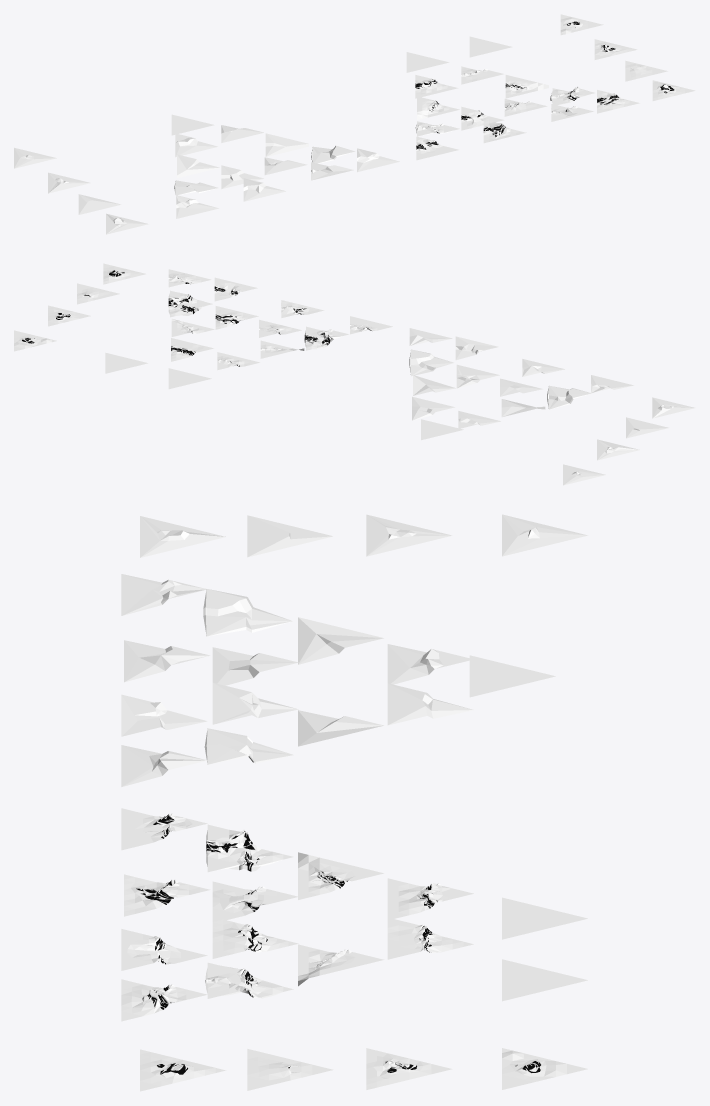
Rendered from arctic_biome_tiles.fbx.
3 renders of one model, top to bottom at view 1: azimuth 30°, elevation 25°; view 2: azimuth 150°, elevation 25°; view 3: azimuth 270°, elevation 25°, orthographic. The views are drawn at different scales.
Visible parts, largest first — view 1: arctic_biome_cliff_1_end_left_a, arctic_biome_cliff_1_end_left_a_low, arctic_biome_cliff_1_convex_c_low, arctic_biome_cliff_1_convex_c, arctic_biome_cliff_1_convex_path_a_low, arctic_biome_cliff_1_convex_a_low, arctic_biome_cliff_1_convex_path_a, arctic_biome_cliff_1_convex_a, arctic_biome_cliff_1_convex_b_low, arctic_biome_cliff_1_convex_b, arctic_biome_cliff_1_end_right_a_low, arctic_biome_cliff_1_end_right_a (+23 smaller); view 2: arctic_biome_cliff_1_multi_left, arctic_biome_cliff_1_multi_left_low, arctic_biome_cliff_1_multi_right, arctic_biome_cliff_1_multi_right_low, arctic_biome_cliff_1_concave_b, arctic_biome_cliff_1_concave_path_a, arctic_biome_cliff_1_concave_path_a_low, arctic_biome_cliff_1_concave_b_low, arctic_biome_cliff_1_concave_a_low, arctic_biome_cliff_1_concave_a, arctic_biome_flat_snow_a, arctic_biome_flat_rock_d_low (+23 smaller); view 3: arctic_biome_cliff_1_multi_right_low, arctic_biome_cliff_1_multi_right, arctic_biome_cliff_1_end_right_a, arctic_biome_cliff_1_end_right_a_low, arctic_biome_cliff_1_convex_a, arctic_biome_cliff_1_concave_a, arctic_biome_cliff_1_concave_path_a_low, arctic_biome_cliff_1_concave_a_low, arctic_biome_cliff_1_convex_a_low, arctic_biome_cliff_1_concave_b, arctic_biome_cliff_1_convex_b, arctic_biome_cliff_1_concave_b_low (+23 smaller).
Part boxes in pixels (bbox=[...]): arctic_biome_cliff_1_end_left_a: bbox=[505, 75, 548, 98]; arctic_biome_cliff_1_end_left_a_low: bbox=[265, 133, 308, 156]; arctic_biome_cliff_1_convex_c_low: bbox=[243, 178, 285, 201]; arctic_biome_cliff_1_convex_c: bbox=[483, 119, 526, 143]; arctic_biome_cliff_1_convex_path_a_low: bbox=[176, 195, 218, 218]; arctic_biome_cliff_1_convex_a_low: bbox=[175, 133, 217, 157]; arctic_biome_cliff_1_convex_path_a: bbox=[416, 136, 458, 160]; arctic_biome_cliff_1_convex_a: bbox=[415, 75, 458, 98]; arctic_biome_cliff_1_convex_b_low: bbox=[357, 148, 399, 172]; arctic_biome_cliff_1_convex_b: bbox=[597, 90, 639, 113]; arctic_biome_cliff_1_end_right_a_low: bbox=[177, 154, 219, 178]; arctic_biome_cliff_1_end_right_a: bbox=[417, 96, 459, 119]; arctic_biome_cliff_1_multi_left: bbox=[168, 290, 212, 317]; arctic_biome_cliff_1_multi_left_low: bbox=[409, 349, 453, 376]; arctic_biome_cliff_1_multi_right: bbox=[304, 326, 348, 350]; arctic_biome_cliff_1_multi_right_low: bbox=[547, 385, 591, 409]; arctic_biome_cliff_1_concave_b: bbox=[215, 306, 258, 329]; arctic_biome_cliff_1_concave_path_a: bbox=[214, 277, 257, 301]; arctic_biome_cliff_1_concave_path_a_low: bbox=[455, 336, 498, 360]; arctic_biome_cliff_1_concave_b_low: bbox=[456, 364, 499, 388]; arctic_biome_cliff_1_concave_a_low: bbox=[412, 396, 454, 420]; arctic_biome_cliff_1_concave_a: bbox=[171, 338, 213, 361]; arctic_biome_flat_snow_a: bbox=[168, 368, 211, 389]; arctic_biome_flat_rock_d_low: bbox=[652, 397, 694, 418]; arctic_biome_cliff_1_multi_right_low: bbox=[203, 589, 292, 636]; arctic_biome_cliff_1_multi_right: bbox=[206, 824, 293, 872]; arctic_biome_cliff_1_end_right_a: bbox=[298, 852, 383, 899]; arctic_biome_cliff_1_end_right_a_low: bbox=[298, 617, 383, 664]; arctic_biome_cliff_1_convex_a: bbox=[387, 878, 473, 918]; arctic_biome_cliff_1_concave_a: bbox=[387, 917, 473, 959]; arctic_biome_cliff_1_concave_path_a_low: bbox=[121, 694, 207, 736]; arctic_biome_cliff_1_concave_a_low: bbox=[387, 683, 473, 725]; arctic_biome_cliff_1_convex_a_low: bbox=[387, 644, 473, 684]; arctic_biome_cliff_1_concave_b: bbox=[212, 917, 298, 958]; arctic_biome_cliff_1_convex_b: bbox=[121, 979, 207, 1021]; arctic_biome_cliff_1_concave_b_low: bbox=[212, 682, 298, 724].
Bounding box in the file's own units: 16377 × 332 × 5601.
3 materials, 1 textured.
